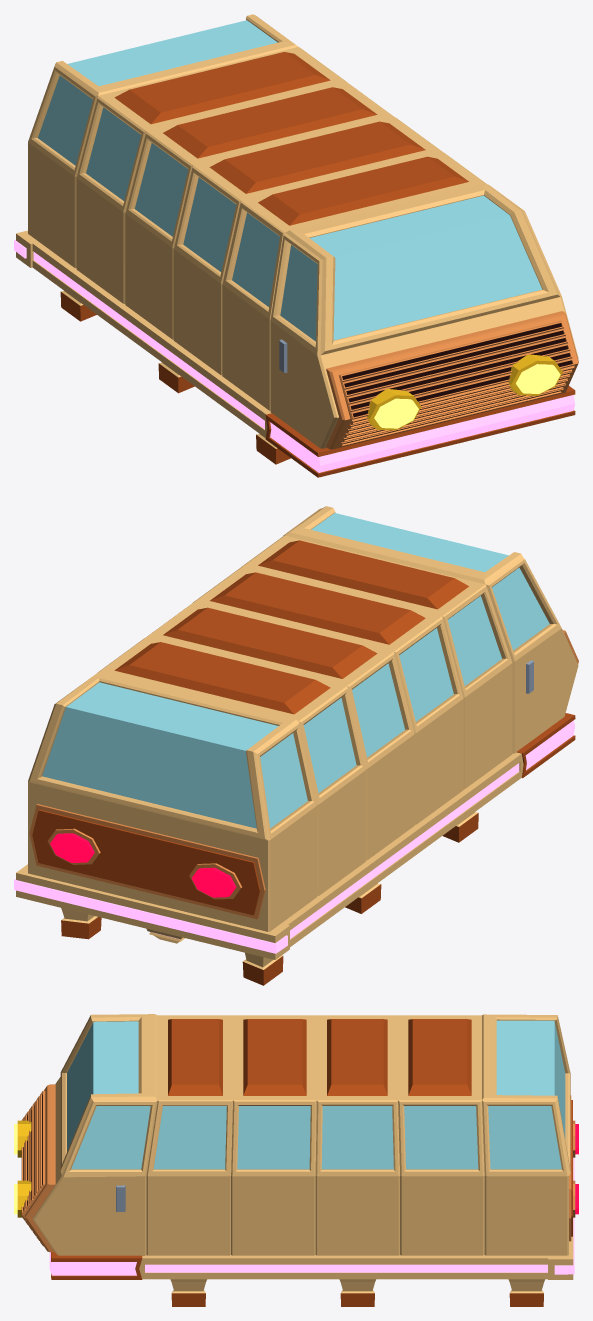
The model's file is future+flying+free+bus.glb.
3 views of the same model, one above another, from view 1: azimuth 30°, elevation 25°; view 2: azimuth 150°, elevation 25°; view 3: azimuth 270°, elevation 25° (orthographic). The views are drawn at different scales.
Visible parts, largest first — view 1: Cube; view 2: Cube; view 3: Cube.
Part boxes in pixels (x1,y1,x2,y2): Cube: (14, 14, 578, 477); Cube: (14, 506, 578, 985); Cube: (14, 1014, 578, 1306).
Size of the model in its own units: 4.17 by 3.7 by 8.94.
Materials: 4 (1 with a texture image).
